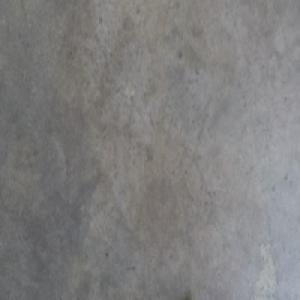Pliers: (190, 292, 202, 299)
